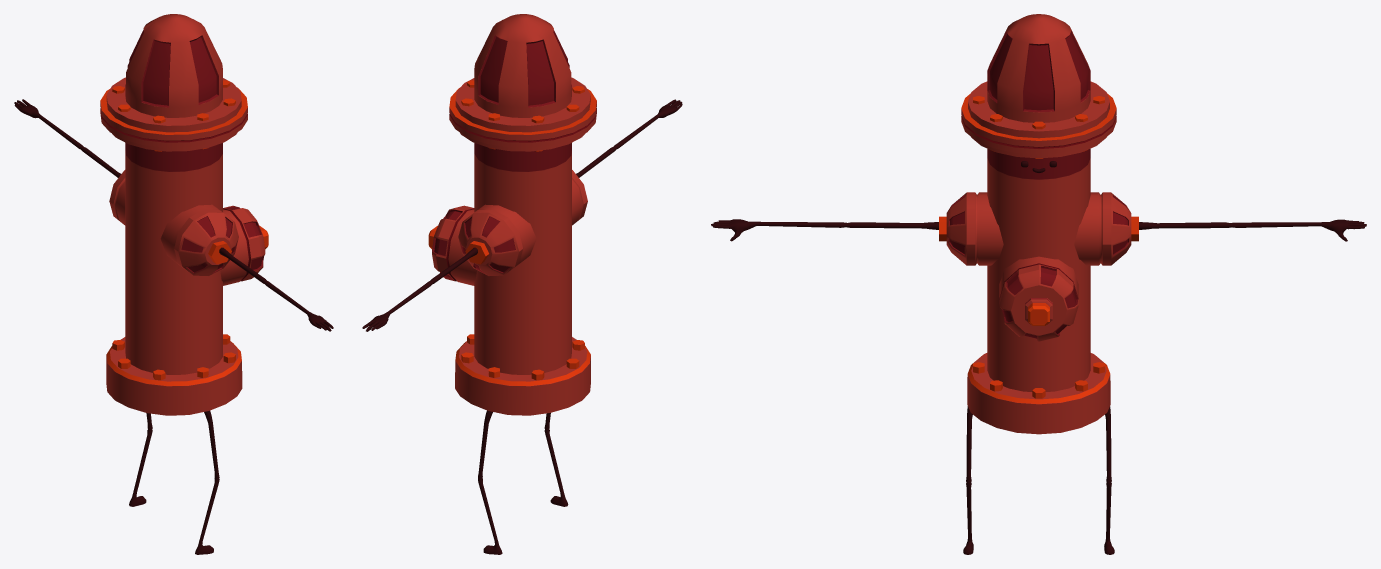
File: Hydrant Character.glb
The picture shows the model from 3 angles, left to right: view 1: azimuth 30°, elevation 25°; view 2: azimuth 150°, elevation 25°; view 3: azimuth 270°, elevation 25°; orthographic projection. The views are drawn at different scales.
Visible parts, largest first — view 1: _100Avatars_139_CoolHydrant; view 2: _100Avatars_139_CoolHydrant; view 3: _100Avatars_139_CoolHydrant.
Part boxes in pixels (left/top/right/bottom): _100Avatars_139_CoolHydrant: left=14, top=14, right=333, bottom=554; _100Avatars_139_CoolHydrant: left=362, top=14, right=682, bottom=554; _100Avatars_139_CoolHydrant: left=711, top=14, right=1366, bottom=554.
Size of the model in its own units: 1.78 by 5.62 by 6.25.
1 material, 1 textured.
